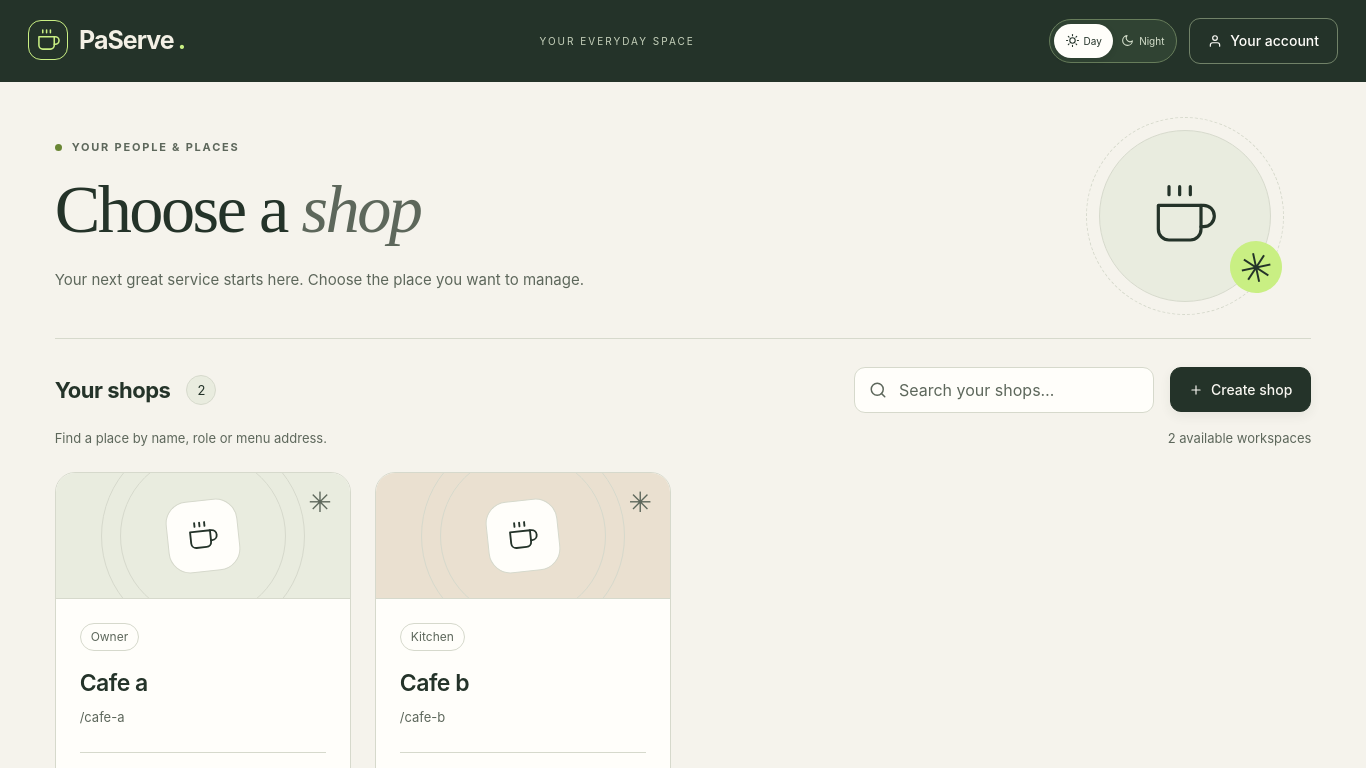
Test case: searches roles, recovers from no results, and restores search focus
Type "kitchen" into the search field named "Search shops" at (1020, 390), box [887,368,1153,412]
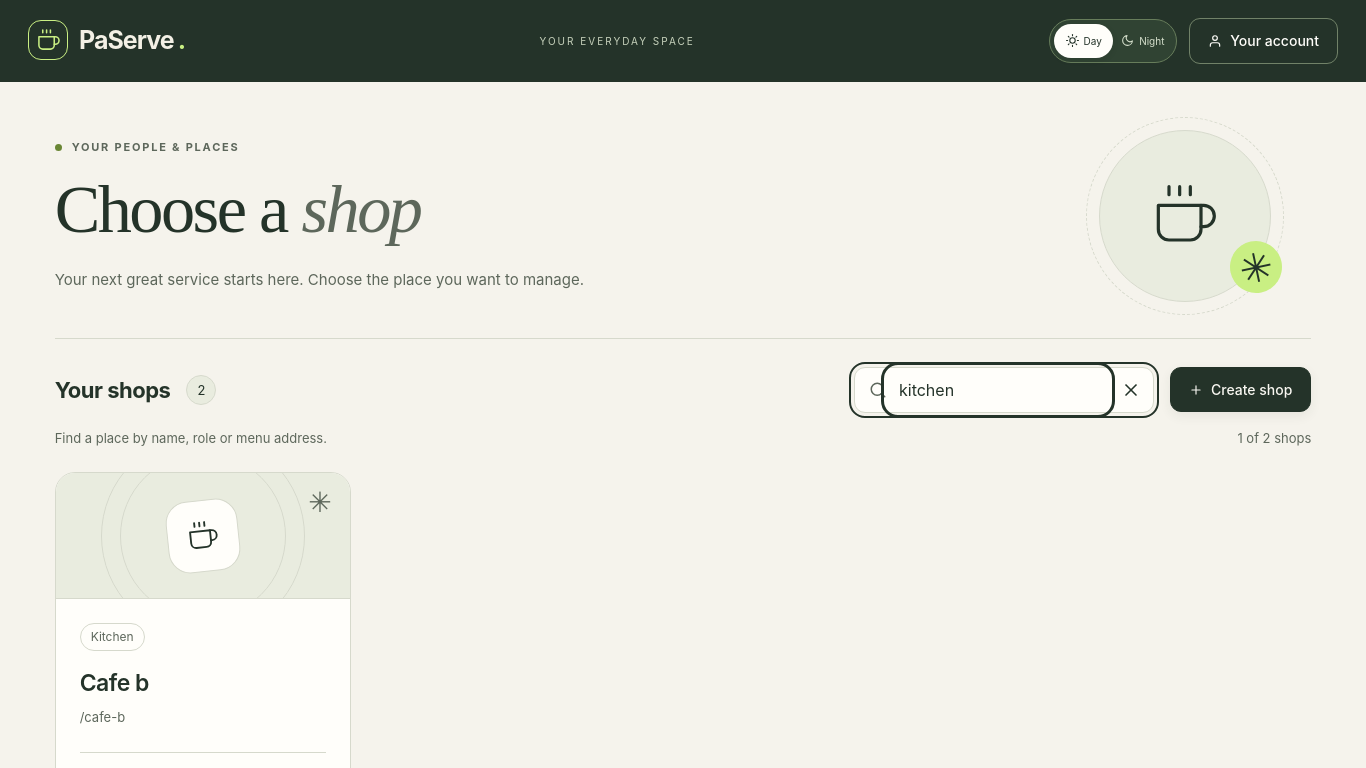
expect the link "✳ kitchen Cafe b /cafe-b Open workspace" is shown: met, box [55,472,351,767]
expect the link "Cafe a" is gone: met
Clear the search field named "Search shops" at (998, 390), box [887,368,1109,412]
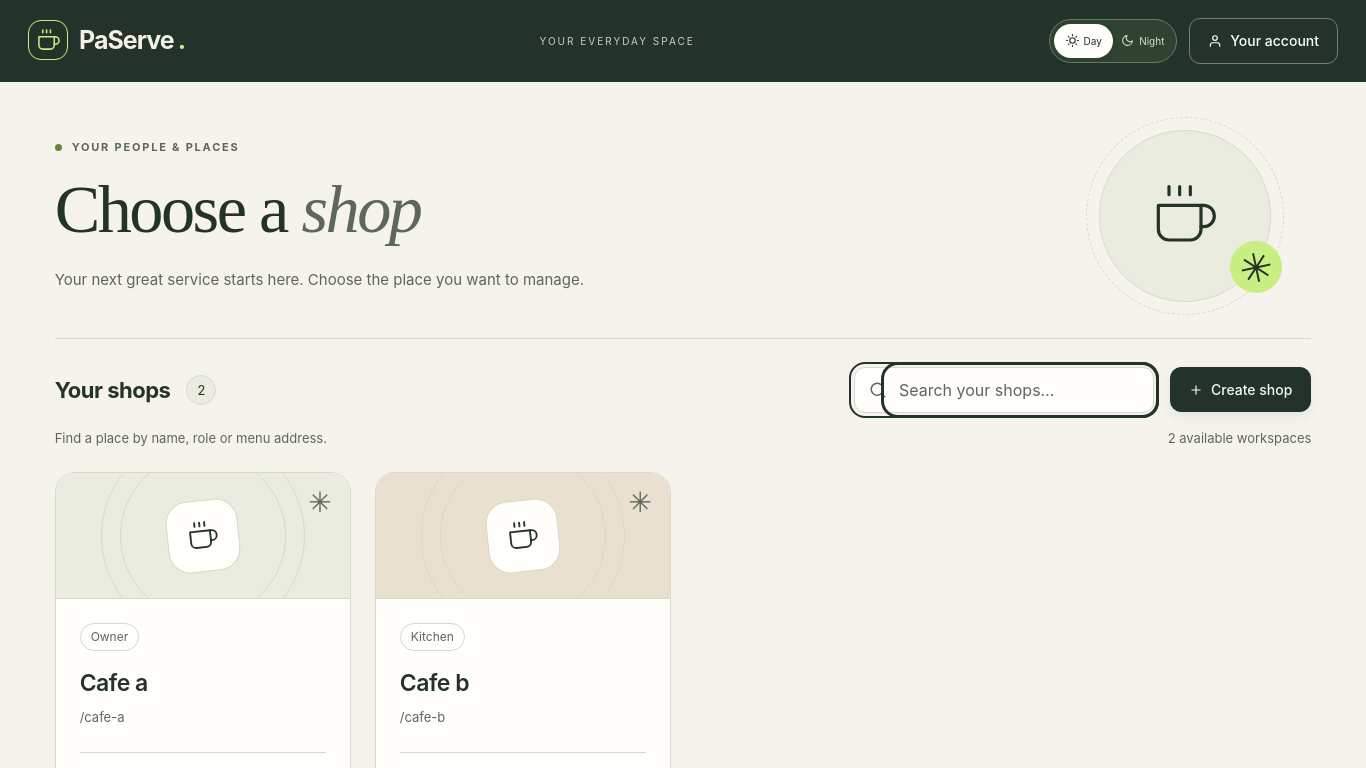
Type "no-such-place" into the search field named "Search shops" at (1020, 390), box [887,368,1153,412]
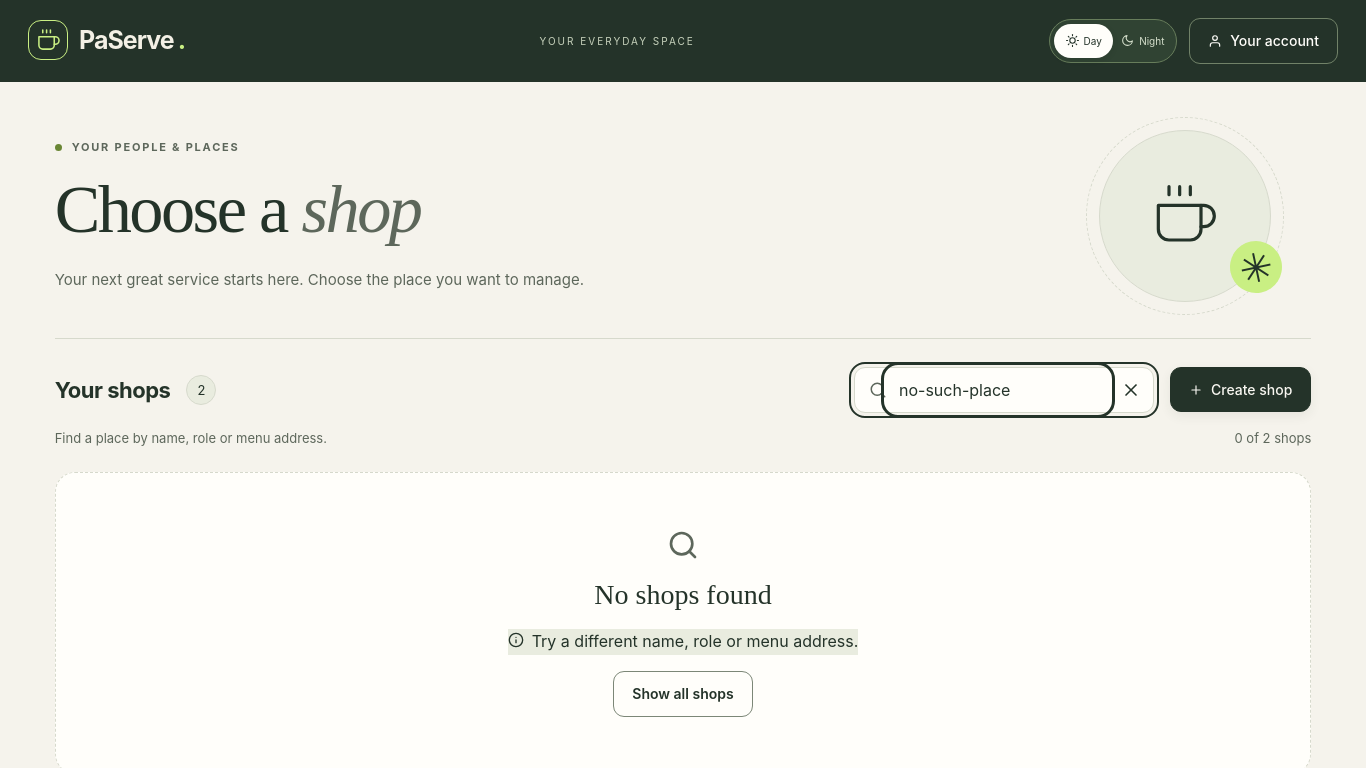
expect the heading "No shops found" is shown: met, box [594,577,772,614]
Click the button "Show all shops" at (683, 694), box [613,671,753,717]
(page scrolled)
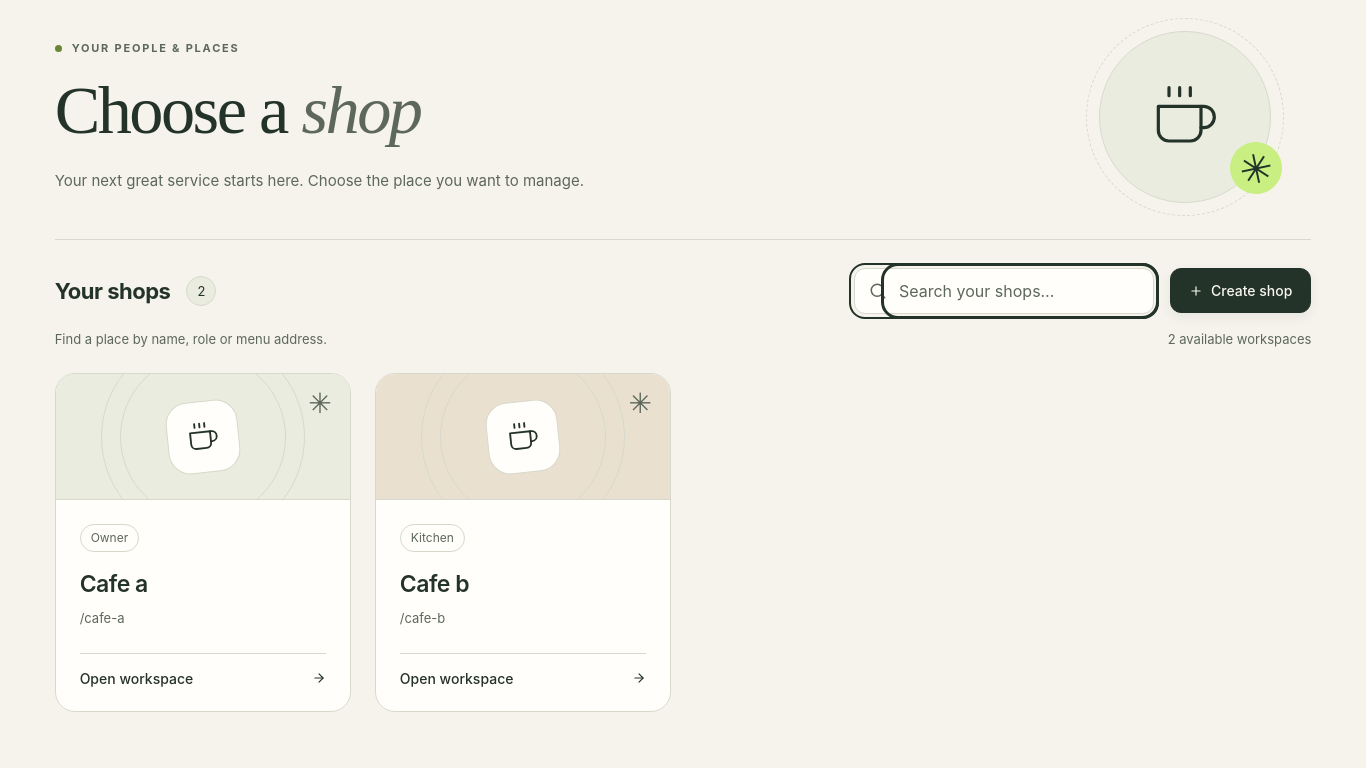
expect the link "✳ owner Cafe a /cafe-a Open workspace" is shown: met, box [55,373,351,712]
expect the link "✳ kitchen Cafe b /cafe-b Open workspace" is shown: met, box [375,373,671,712]
